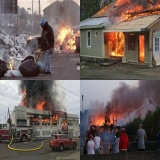fire: (109, 0, 159, 19), (53, 23, 78, 53), (109, 31, 125, 57), (89, 112, 115, 127), (18, 85, 30, 108), (139, 34, 145, 61), (4, 59, 17, 71), (35, 99, 46, 111), (33, 117, 49, 123), (27, 35, 36, 42), (52, 114, 58, 122), (62, 119, 66, 126)
